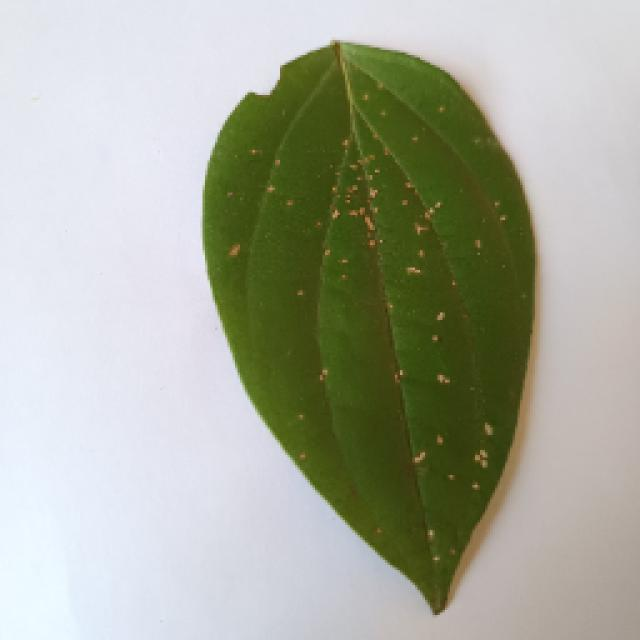pollu-disease: (200, 38, 532, 612)
